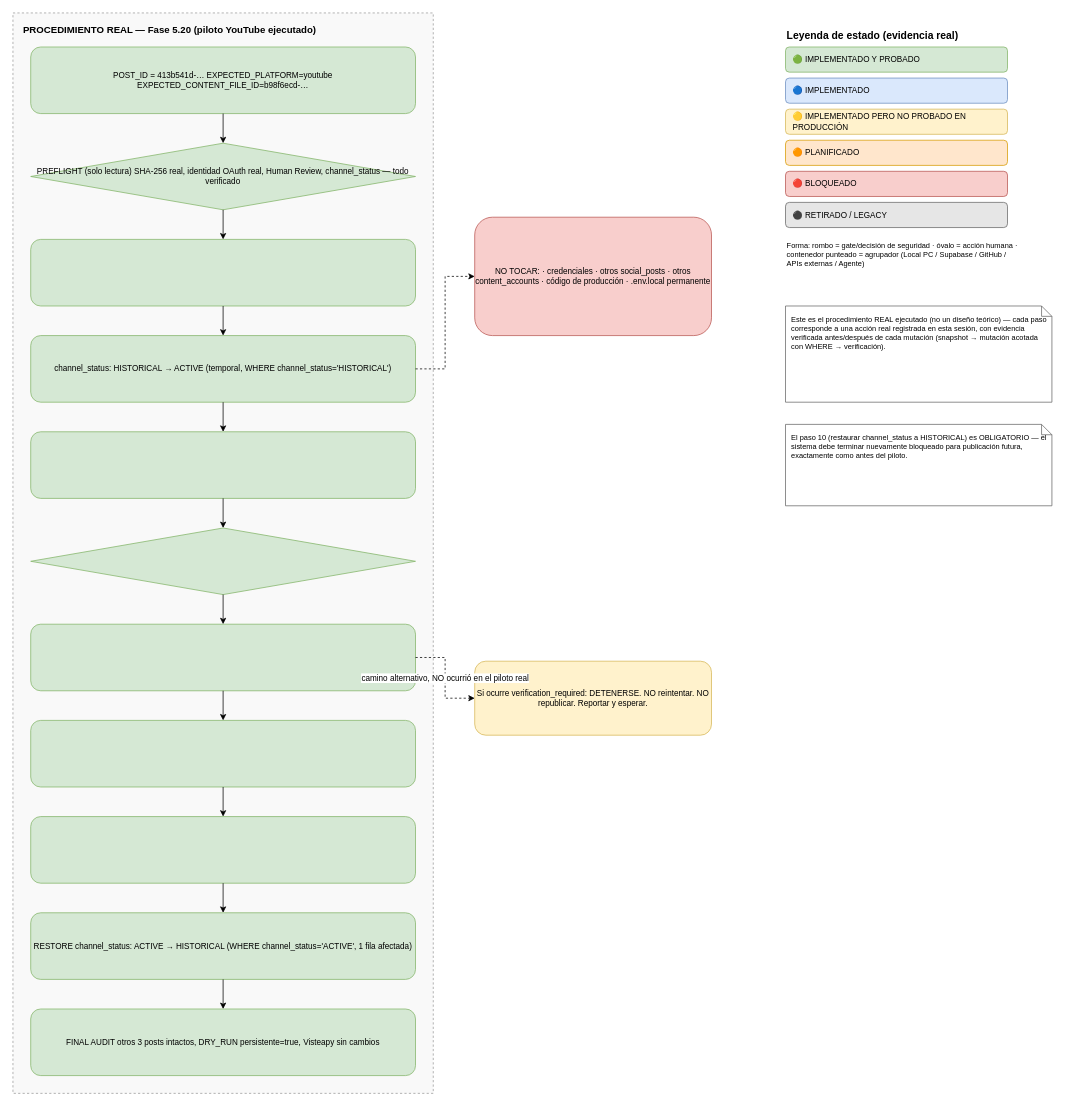
Image size: 1065x1106. Some labels were removed from this diagram. Here are the shapes that lost their labels. From the top down, the centre of each, then its label:
At (223,272): "AUTHORIZATION authorizePublication(postId, 'angie-…') SOLO ese post, ningún otro".
At (223,464): "DRY_RUN=false (temporal) solo como prefijo del proceso, .env.local intacto".
At (223,561): "npm run agent:publish (un solo proceso, modo dirigido)".
At (223,657): "PUBLISHER real → YouTube upload resumible, privacyStatus=private".
At (223,753): "VERIFICATION (solo lectura) videos.list: channelId, title, privacyStatus".
At (223,849): "PERSIST external_post_id = PawU4OS5lbk status='published', published_at real".
